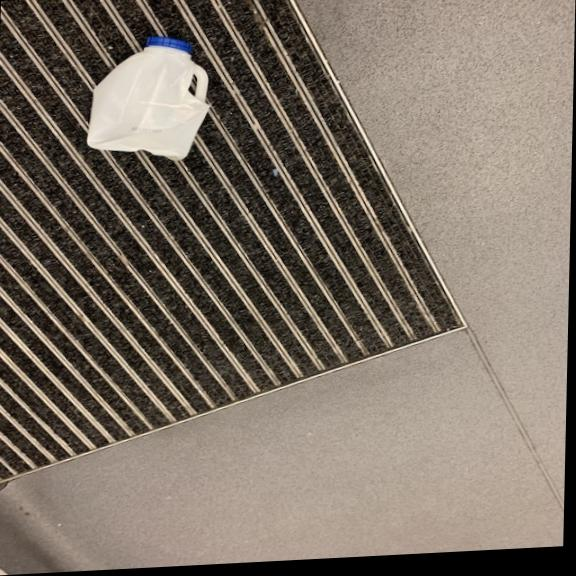Plastik: (81, 23, 214, 169)
